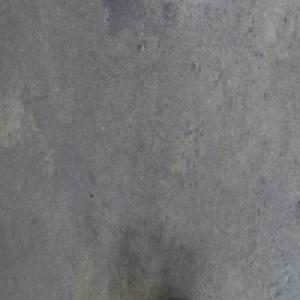AdjustableWrench: (158, 287, 193, 298)
